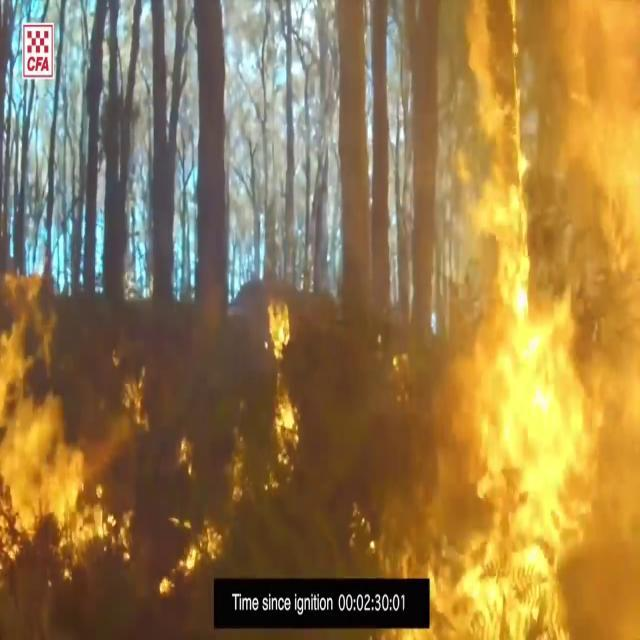Fire: (432, 2, 638, 632), (0, 260, 135, 608), (157, 433, 231, 598), (258, 284, 306, 484)
